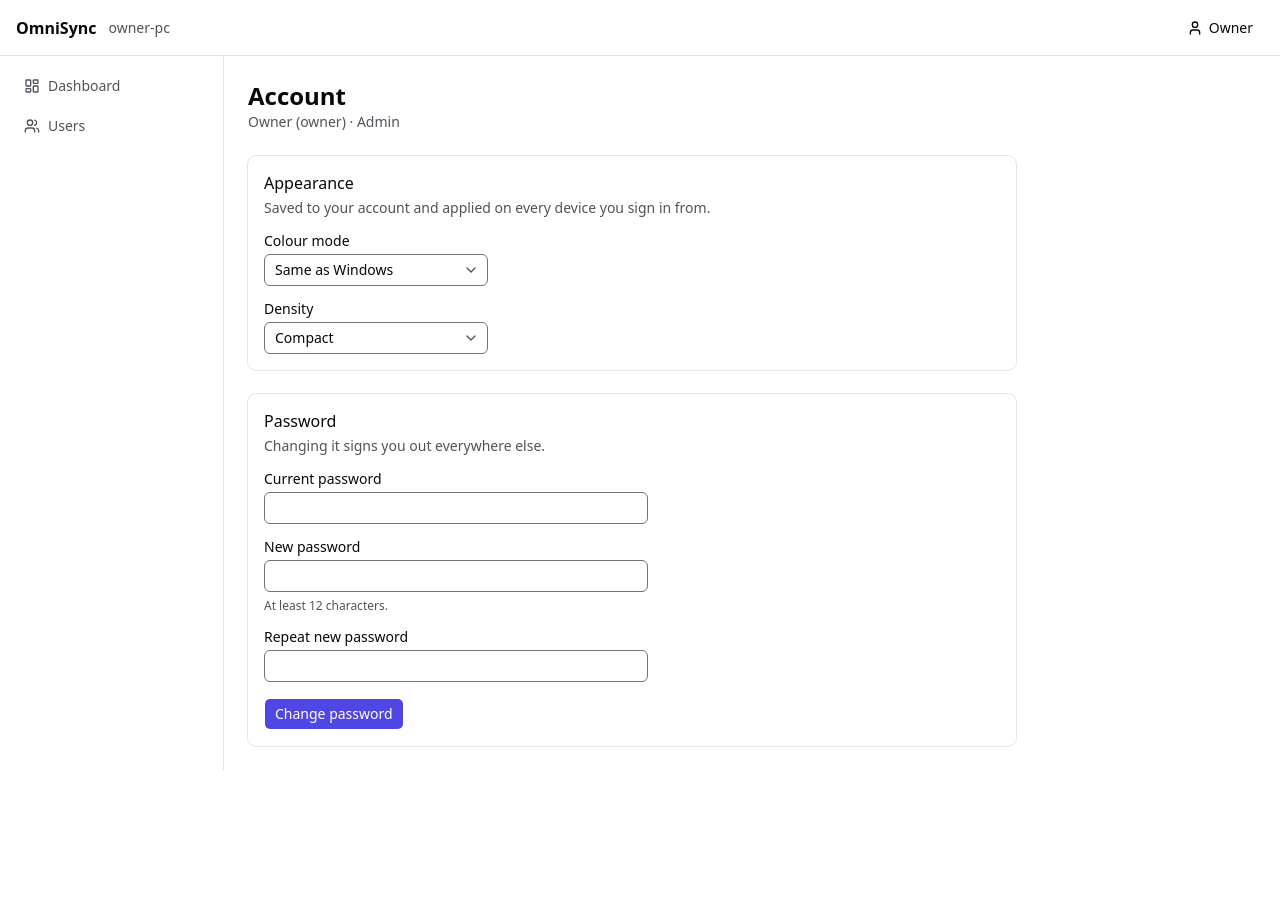
Scenario: account › shows the server error for a wrong current password
Type "wrong-password-x" into the password field labelled "Current password".
click(456, 508); type("wrong-password-x")  # box [264,492,648,524]
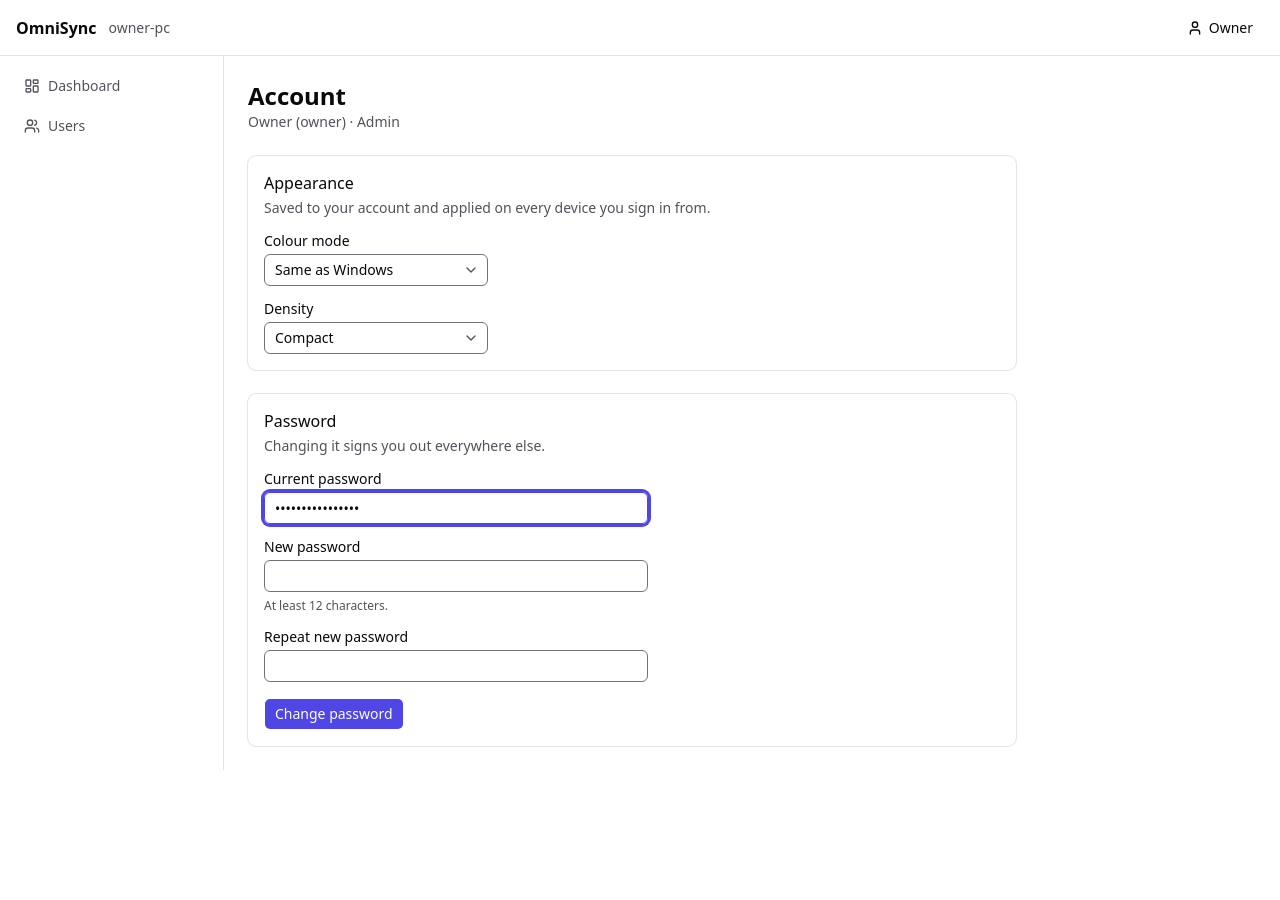
Type "a-much-better-passphrase" into the password field labelled "New password".
click(456, 576); type("a-much-better-passphrase")  # box [264,560,648,592]
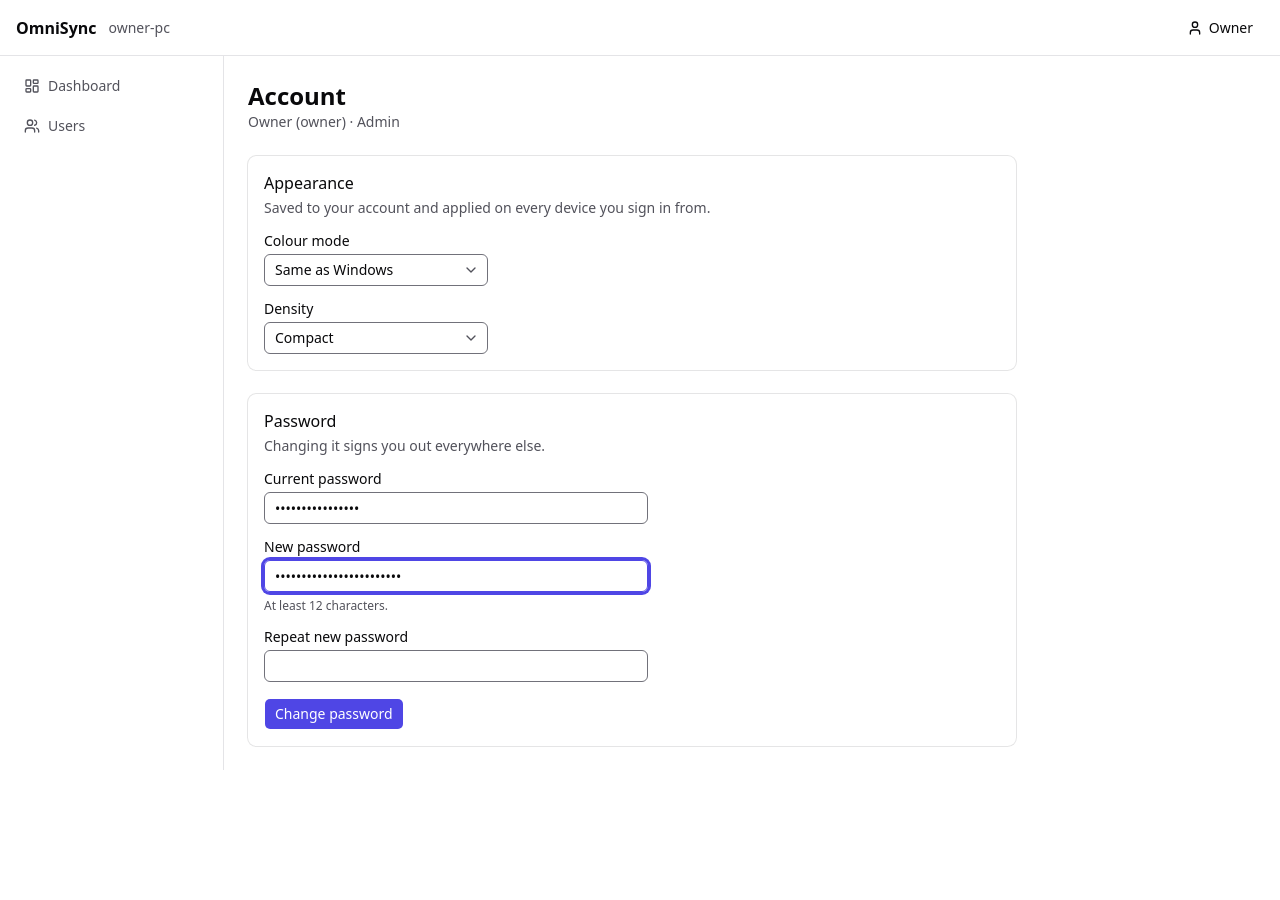
Type "a-much-better-passphrase" into the password field labelled "Repeat new password".
click(456, 666); type("a-much-better-passphrase")  # box [264,650,648,682]
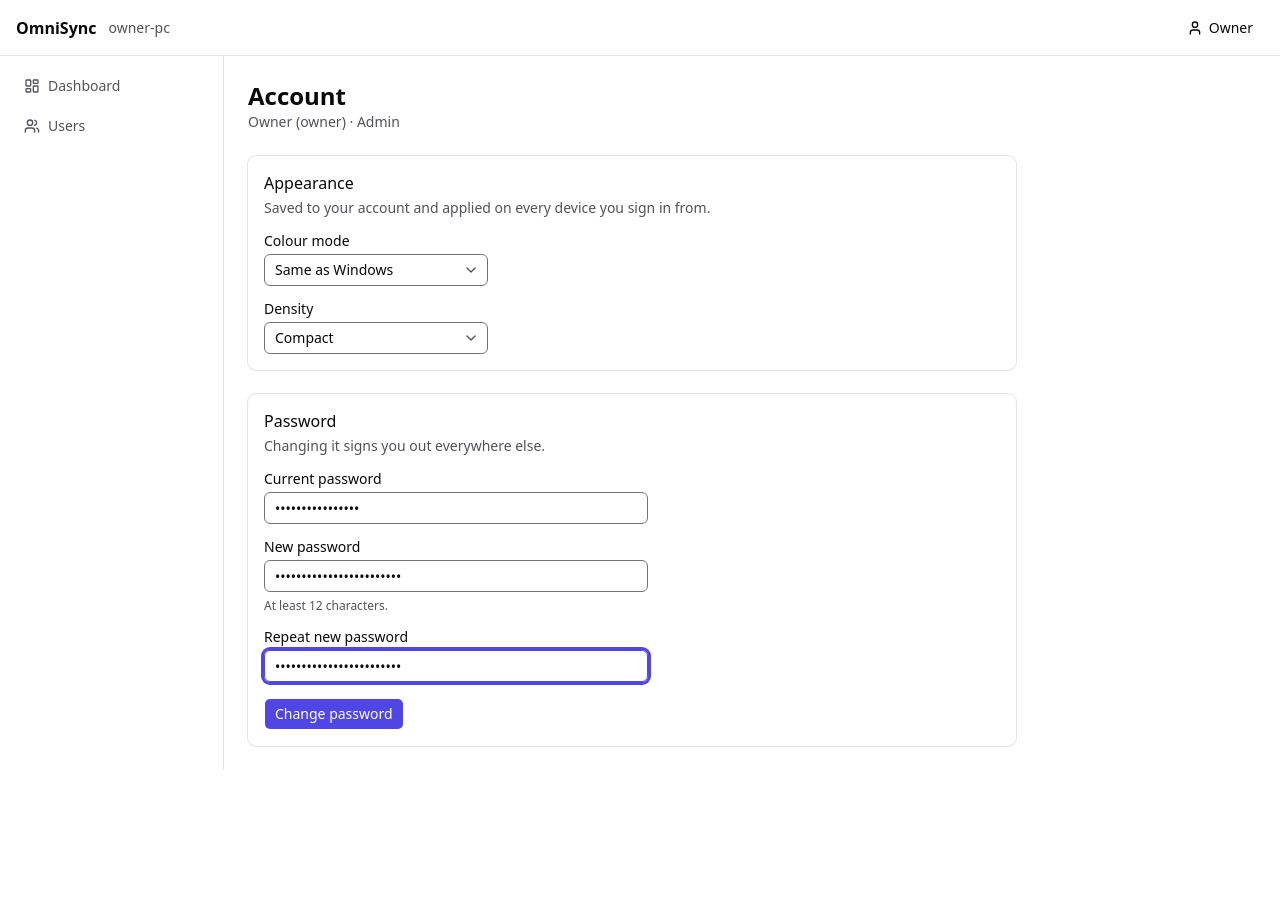
Click the button "Change password".
click(334, 714)  # box [264,698,404,730]
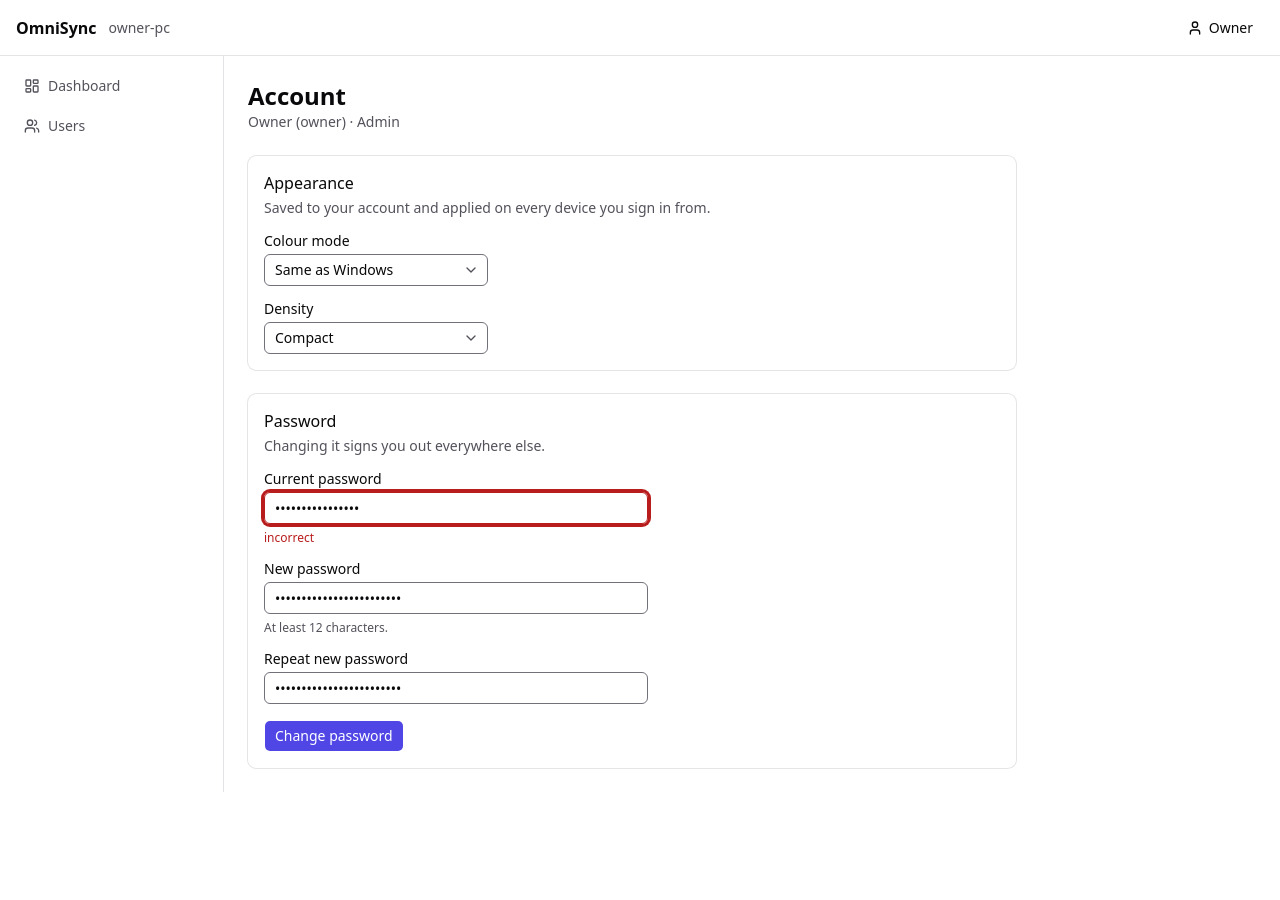
Check: the text "incorrect" is shown, box [264,529,314,546]
